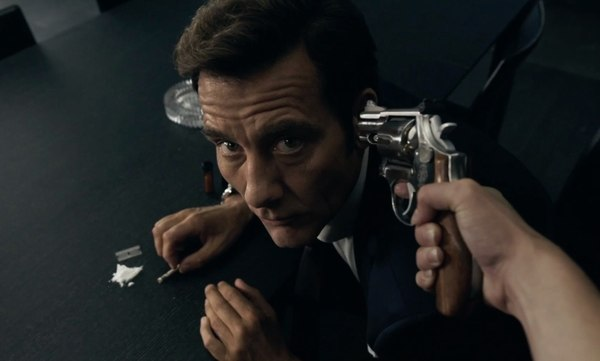Revolver: (330, 85, 496, 317)
